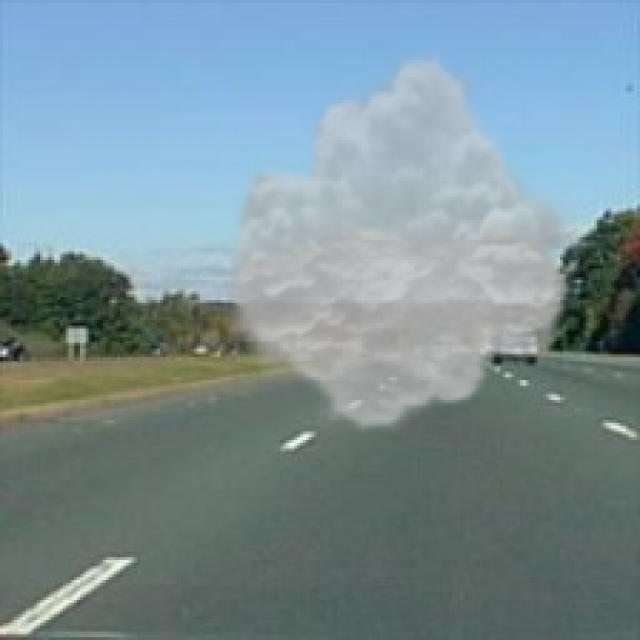Smoke: (217, 48, 580, 434)
